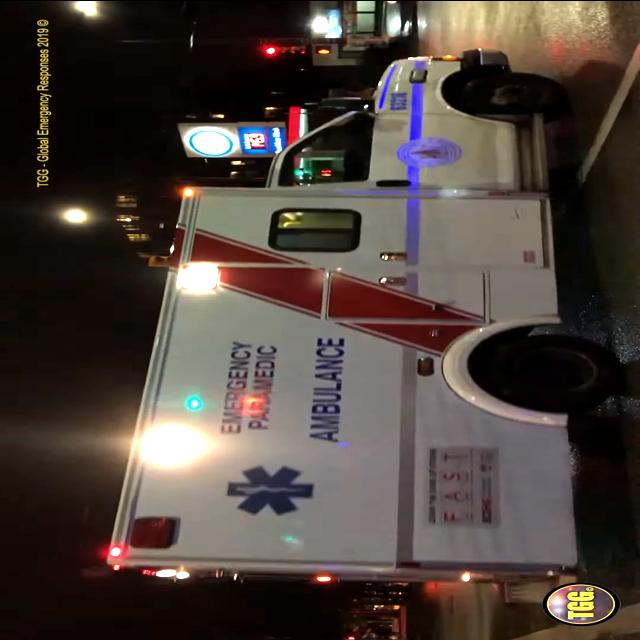emergency-vehicles: (90, 38, 612, 590)
